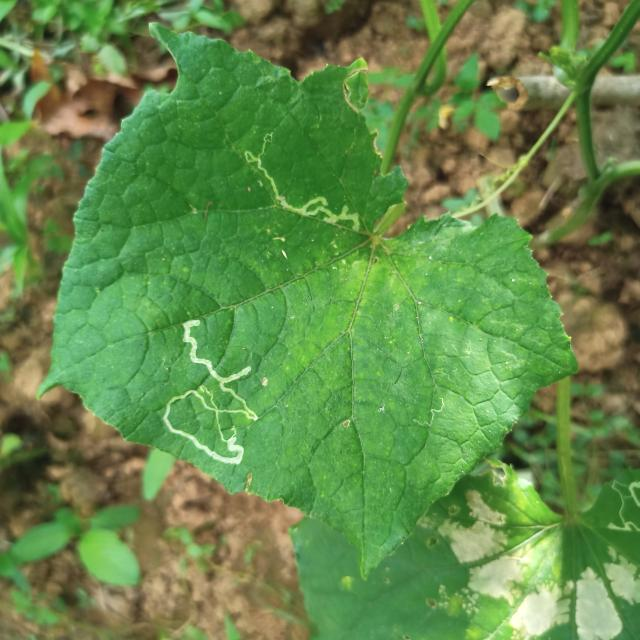disease_cucumber: (423, 485, 638, 638)
